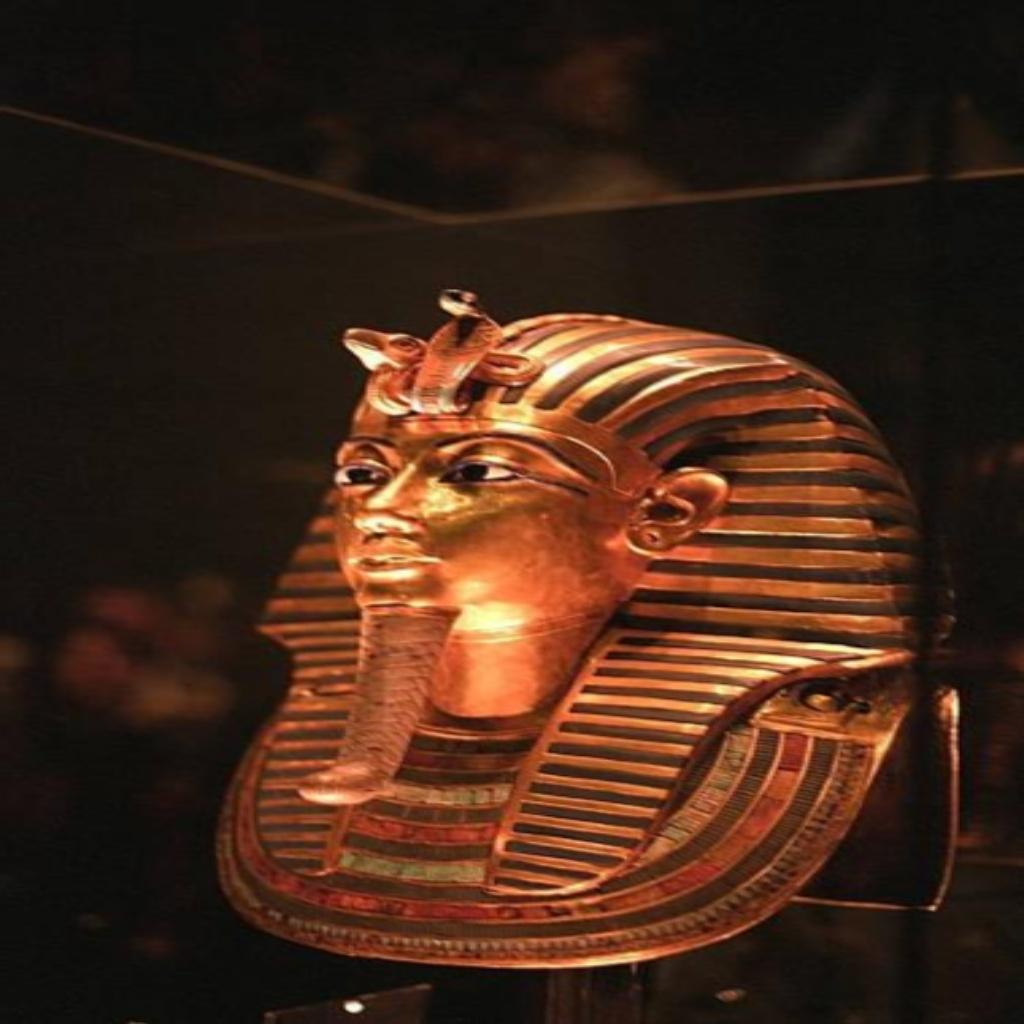Mask of Tutankhamun: (205, 286, 962, 969)
